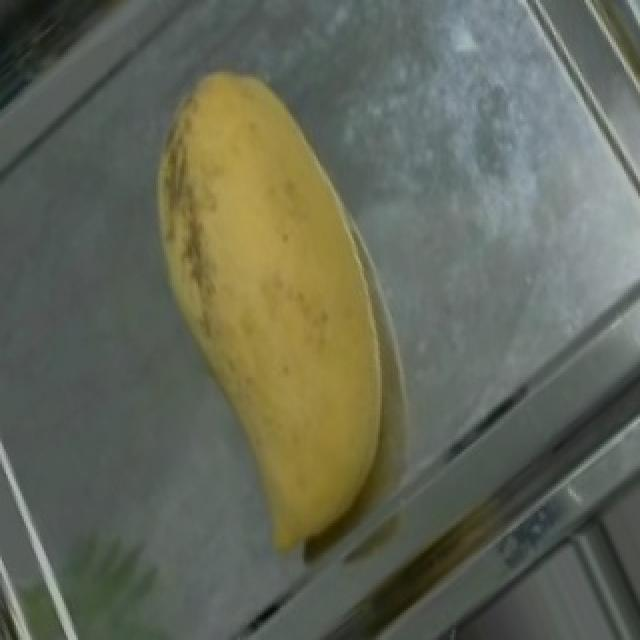fruit: (96, 37, 452, 474)
